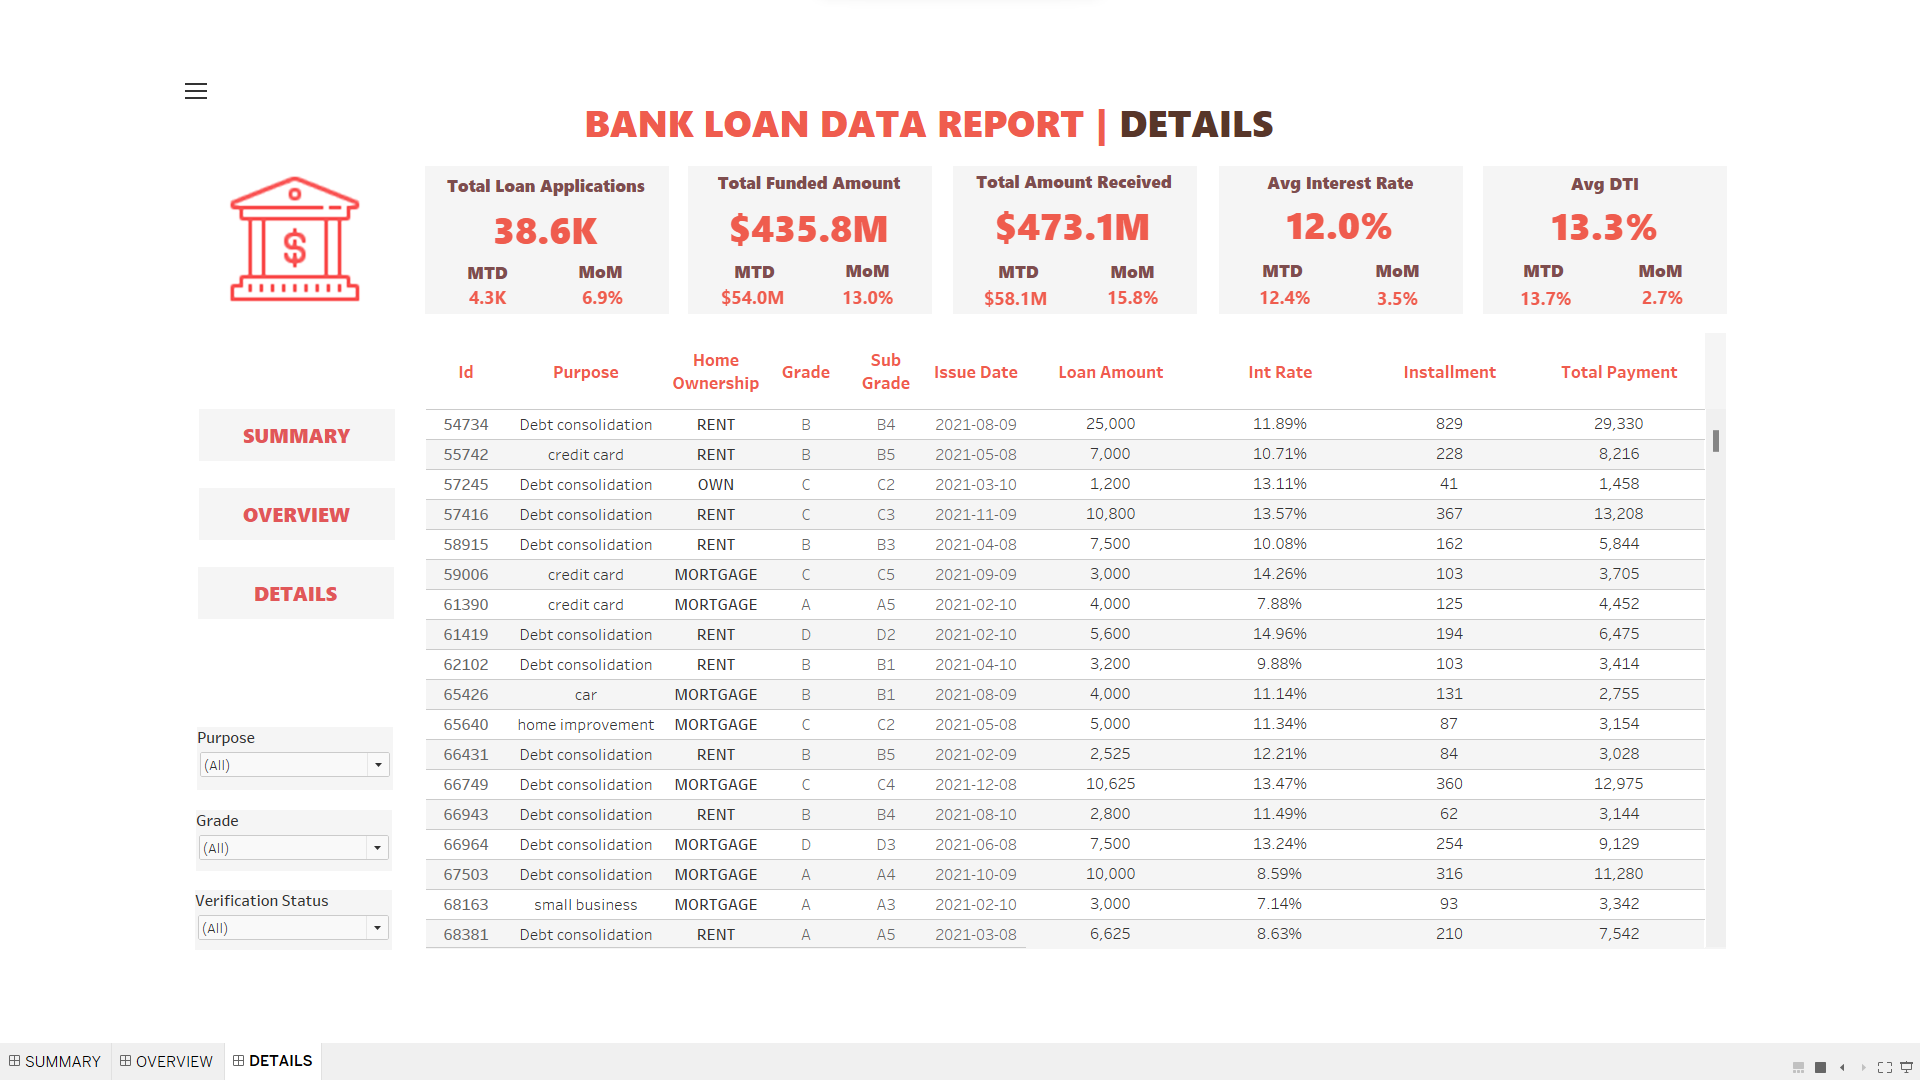

What the dashboard file says about the page in this screenshot:
{"tool":"tableau","page":{"name":"DETAILS","canvas":[1600,900],"ordinal":0},"visuals":[{"type":"dashboard-object","box":[0,8,24,24]},{"type":"dashboard-object","box":[24,8,24,24]},{"type":"text","box":[421,11,810,81]},{"type":"blank","box":[265,95,244,148]},{"type":"blank","box":[528,95,244,148]},{"type":"blank","box":[793,95,244,148]},{"type":"worksheet","title":"Total Amount Received","mark":"Automatic","box":[793,95,242,81]},{"type":"blank","box":[1059,95,244,148]},{"type":"blank","box":[1323,95,244,148]},{"type":"worksheet","title":"Total Funded Amount","mark":"Automatic","box":[527,96,244,83]},{"type":"worksheet","title":"Avg Interest Rate","mark":"Automatic","box":[1060,96,241,78]},{"type":"image","param":"C:/Users/Sylvi/Downloads/icons8bank-building.png","box":[64,97,143,145]},{"type":"worksheet","title":"Avg DTI","mark":"Automatic","box":[1325,97,240,77]},{"type":"worksheet","title":"Total Loan Applications","mark":"Automatic","box":[266,99,240,82]},{"type":"text","box":[675,184,65,30]},{"type":"text","box":[1090,184,65,30]},{"type":"text","box":[1205,184,65,30]},{"type":"text","box":[1351,184,65,30]},{"type":"text","box":[1468,184,65,30]},{"type":"text","box":[408,185,65,30]},{"type":"text","box":[562,185,65,30]},{"type":"text","box":[826,185,65,30]},{"type":"text","box":[940,185,65,30]},{"type":"text","box":[295,186,65,30]},{"type":"worksheet","title":"MoM Total Amount Received","mark":"Automatic","box":[924,205,98,42]},{"type":"worksheet","title":"MTD Avg DTI","mark":"Automatic","box":[1339,205,94,45]},{"type":"worksheet","title":"MTD Avg Int Rate","mark":"Automatic","box":[1084,208,83,37]},{"type":"worksheet","title":"MoM Avg DTI","mark":"Automatic","box":[1467,208,72,36]},{"type":"worksheet","title":"MoM Loan Applications","mark":"Automatic","box":[407,209,73,35]},{"type":"worksheet","title":"MoM Total Funded Amount","mark":"Automatic","box":[663,209,90,34]},{"type":"worksheet","title":"MoM Avg Int Rate","mark":"Automatic","box":[1195,209,86,37]},{"type":"worksheet","title":"MTD Total Amout Received","mark":"Automatic","box":[809,210,94,35]},{"type":"worksheet","title":"MTD Total Loan Applications","mark":"Automatic","box":[282,211,92,30]},{"type":"worksheet","title":"MTD Total Funded Amount","mark":"Automatic","box":[554,211,79,31]},{"type":"blank","box":[266,262,1300,616]},{"type":"worksheet","title":"Details Tab","mark":"Automatic","rows":["id","purpose","home_ownership","grade","sub_grade","issue_date"],"box":[266,262,1300,615]},{"type":"dashboard-object","box":[39,338,196,52]},{"type":"dashboard-object","box":[39,417,196,52]},{"type":"dashboard-object","box":[38,496,196,52]},{"type":"filter","title":"Avg DTI","param":"[federated.0o8ds8i1wbf4nt19vdyb61pz2yw0].[none:purpose:nk]","box":[37,656,196,63]},{"type":"filter","title":"Avg DTI","param":"[federated.0o8ds8i1wbf4nt19vdyb61pz2yw0].[none:grade:nk]","box":[36,739,196,61]},{"type":"filter","title":"Avg DTI","param":"[federated.0o8ds8i1wbf4nt19vdyb61pz2yw0].[none:verification_status:nk]","box":[35,819,197,60]}]}

Visuals, with their boxes on the page's 1600x900 design canvas (x1, y1, x2, y2). These are canvas units, not pixel positions in the 1920x1080 screenshot, which may show the page scaled, cropped or inside an application window:
dashboard-object: 0 8 24 32
dashboard-object: 24 8 48 32
text: 421 11 1231 92
blank: 265 95 509 243
blank: 528 95 772 243
blank: 793 95 1037 243
"Total Amount Received" worksheet: 793 95 1035 176
blank: 1059 95 1303 243
blank: 1323 95 1567 243
"Total Funded Amount" worksheet: 527 96 771 179
"Avg Interest Rate" worksheet: 1060 96 1301 174
image: 64 97 207 242
"Avg DTI" worksheet: 1325 97 1565 174
"Total Loan Applications" worksheet: 266 99 506 181
text: 675 184 740 214
text: 1090 184 1155 214
text: 1205 184 1270 214
text: 1351 184 1416 214
text: 1468 184 1533 214
text: 408 185 473 215
text: 562 185 627 215
text: 826 185 891 215
text: 940 185 1005 215
text: 295 186 360 216
"MoM Total Amount Received" worksheet: 924 205 1022 247
"MTD Avg DTI" worksheet: 1339 205 1433 250
"MTD Avg Int Rate" worksheet: 1084 208 1167 245
"MoM Avg DTI" worksheet: 1467 208 1539 244
"MoM Loan Applications" worksheet: 407 209 480 244
"MoM Total Funded Amount" worksheet: 663 209 753 243
"MoM Avg Int Rate" worksheet: 1195 209 1281 246
"MTD Total Amout Received" worksheet: 809 210 903 245
"MTD Total Loan Applications" worksheet: 282 211 374 241
"MTD Total Funded Amount" worksheet: 554 211 633 242
blank: 266 262 1566 878
"Details Tab" worksheet: 266 262 1566 877
dashboard-object: 39 338 235 390
dashboard-object: 39 417 235 469
dashboard-object: 38 496 234 548
"Avg DTI" filter: 37 656 233 719
"Avg DTI" filter: 36 739 232 800
"Avg DTI" filter: 35 819 232 879
